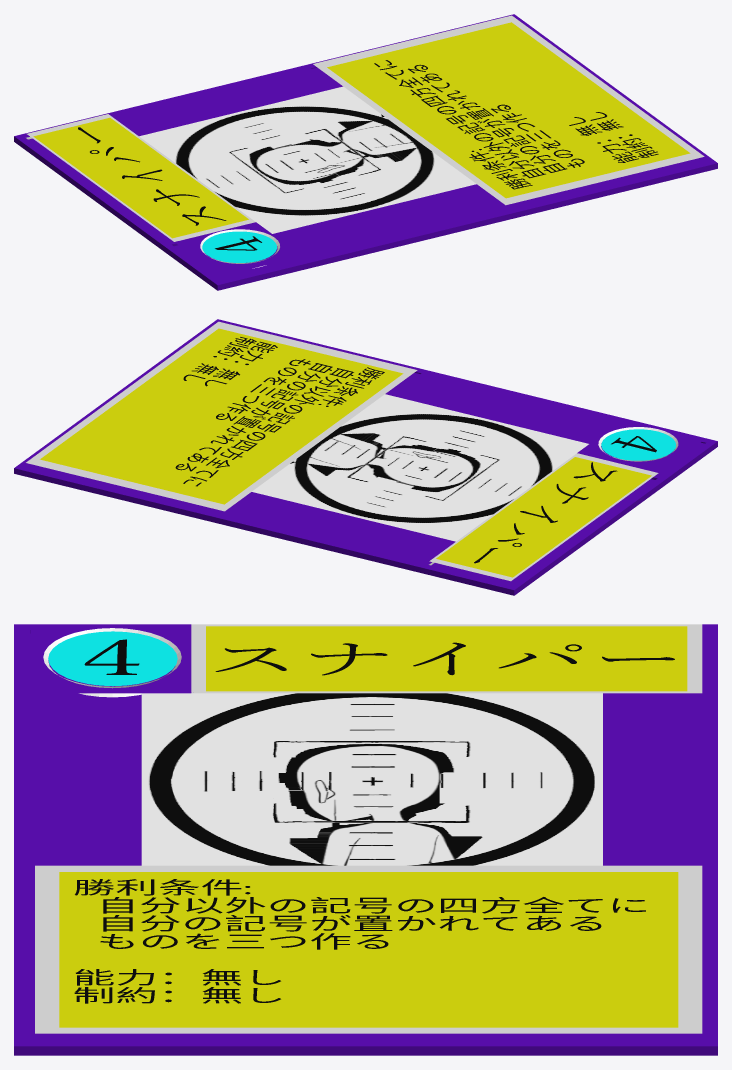
Rendered from スナイパー紫.fbx.
3 views of the same model, one above another, from view 1: azimuth 30°, elevation 25°; view 2: azimuth 150°, elevation 25°; view 3: azimuth 270°, elevation 25° (orthographic). The views are drawn at different scales.
Parts seen in each view (by area): view 1: 説明欄, 平面.001, カード本体.001, 名前欄, 説明文, 円, 平面, 名前; view 2: 説明欄, 平面.001, カード本体.001, 名前欄, 説明文, 円, 平面, 名前; view 3: 説明欄, 平面.001, カード本体.001, 名前欄, 説明文, 平面, 円, 名前, コスト蘭.
Boxes of the visible parts, x1,y1,x2,y2 form: 説明欄: [313, 15, 704, 205]; 平面.001: [139, 86, 476, 233]; カード本体.001: [14, 14, 717, 290]; 名前欄: [27, 114, 255, 241]; 説明文: [374, 60, 658, 189]; 円: [202, 231, 276, 262]; 平面: [174, 222, 302, 275]; 名前: [78, 127, 226, 225]; 説明欄: [26, 321, 417, 511]; 平面.001: [252, 394, 588, 541]; カード本体.001: [14, 319, 717, 595]; 名前欄: [429, 453, 658, 581]; 説明文: [175, 337, 384, 486]; 円: [601, 429, 675, 460]; 平面: [577, 419, 704, 472]; 名前: [474, 462, 617, 563]; 説明欄: [35, 865, 702, 1033]; 平面.001: [141, 693, 602, 865]; カード本体.001: [14, 624, 717, 1055]; 名前欄: [191, 624, 702, 693]; 説明文: [74, 879, 645, 1003]; 平面: [30, 624, 191, 693]; 円: [48, 631, 177, 686]; 名前: [215, 642, 674, 675]; コスト蘭: [43, 628, 181, 697].
Size of the model in its own units: 281 by 6.07 by 198.
